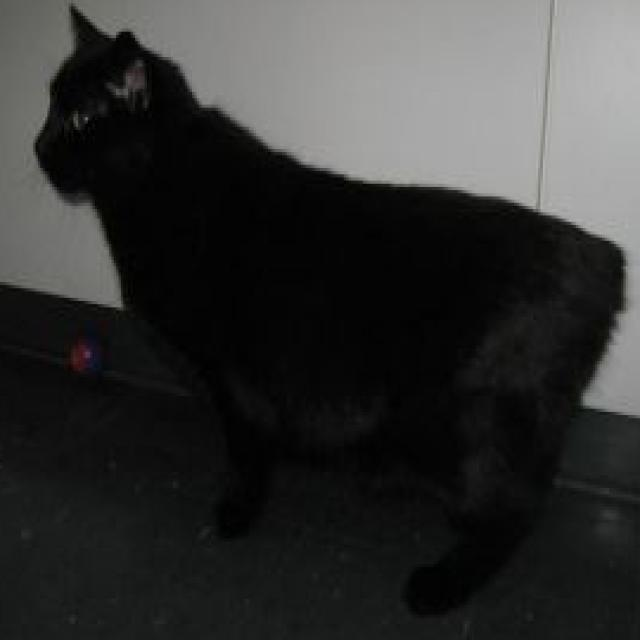American Bobtail: (31, 0, 628, 621)
